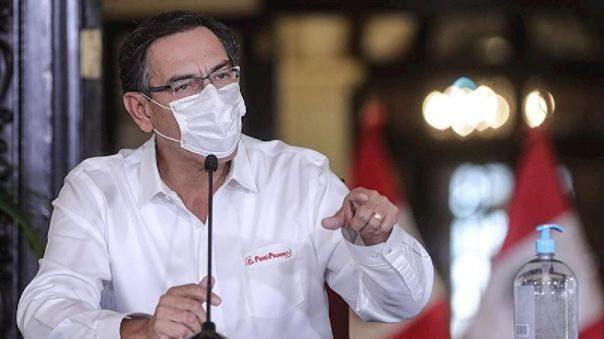with_mask: (125, 32, 257, 169)
